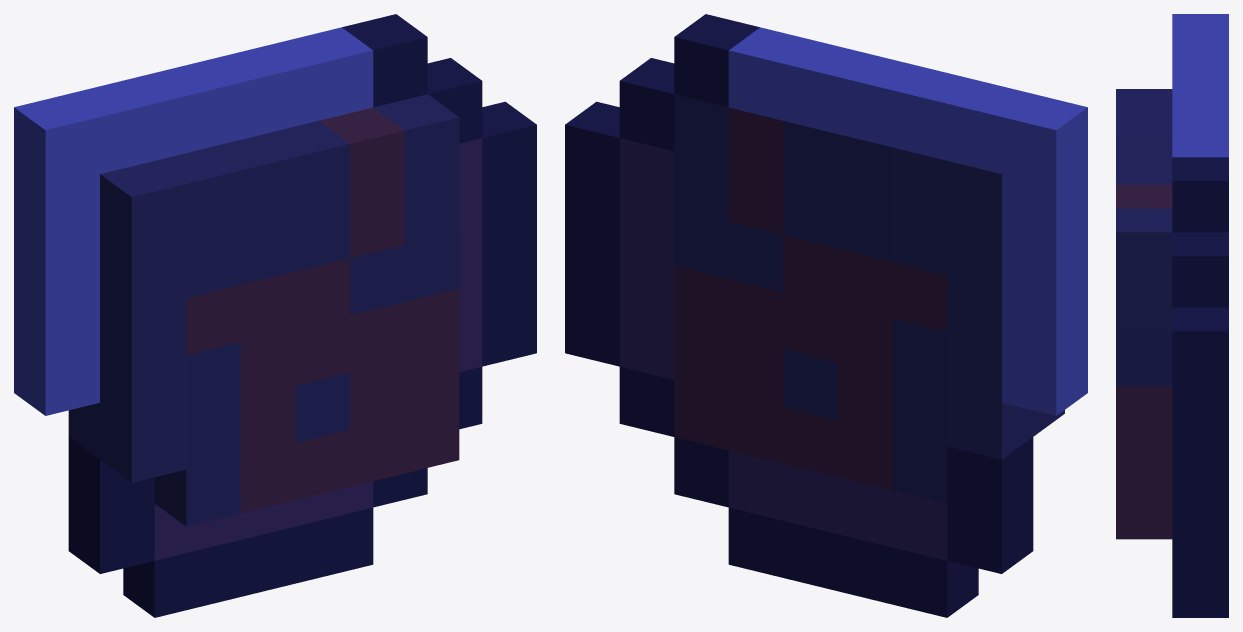
The model's file is debris-5.obj.
3 renders of one model, left to right at view 1: azimuth 30°, elevation 25°; view 2: azimuth 150°, elevation 25°; view 3: azimuth 270°, elevation 25°, orthographic. The views are drawn at different scales.
Size of the model in its own units: 0.9 by 0.9 by 0.2.
